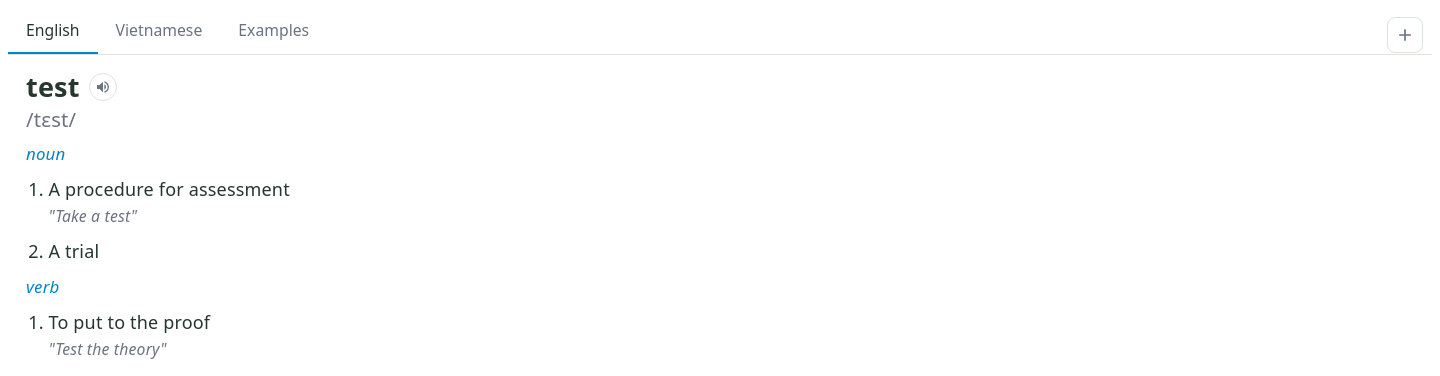
Scenario: StatelessDictionary › switches to Vietnamese tab
The width and height of the screenshot is (1440, 376).
Click the button "Vietnamese". click: (159, 31)
box: x1=98 y1=8 x2=220 y2=54
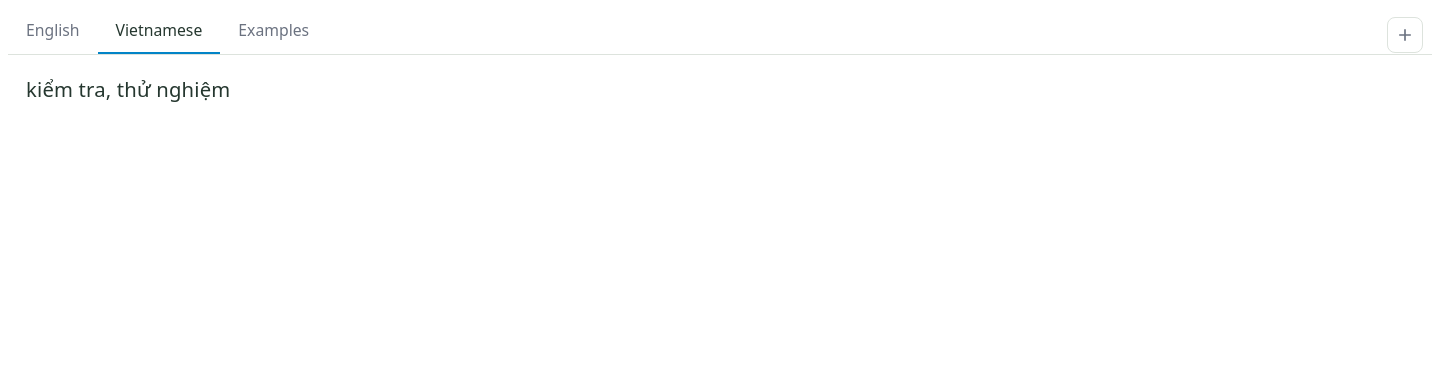
Expected: the text "kiểm tra, thử nghiệm" is shown, x1=26 y1=75 x2=230 y2=103
